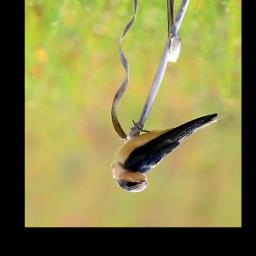Swallow: (110, 109, 230, 198)
